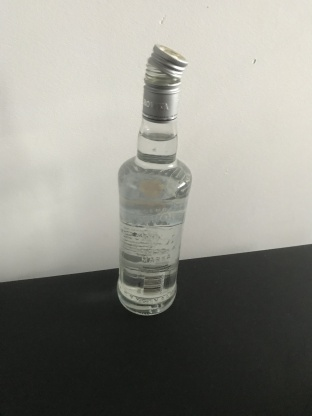nakretka: (140, 41, 189, 124)
